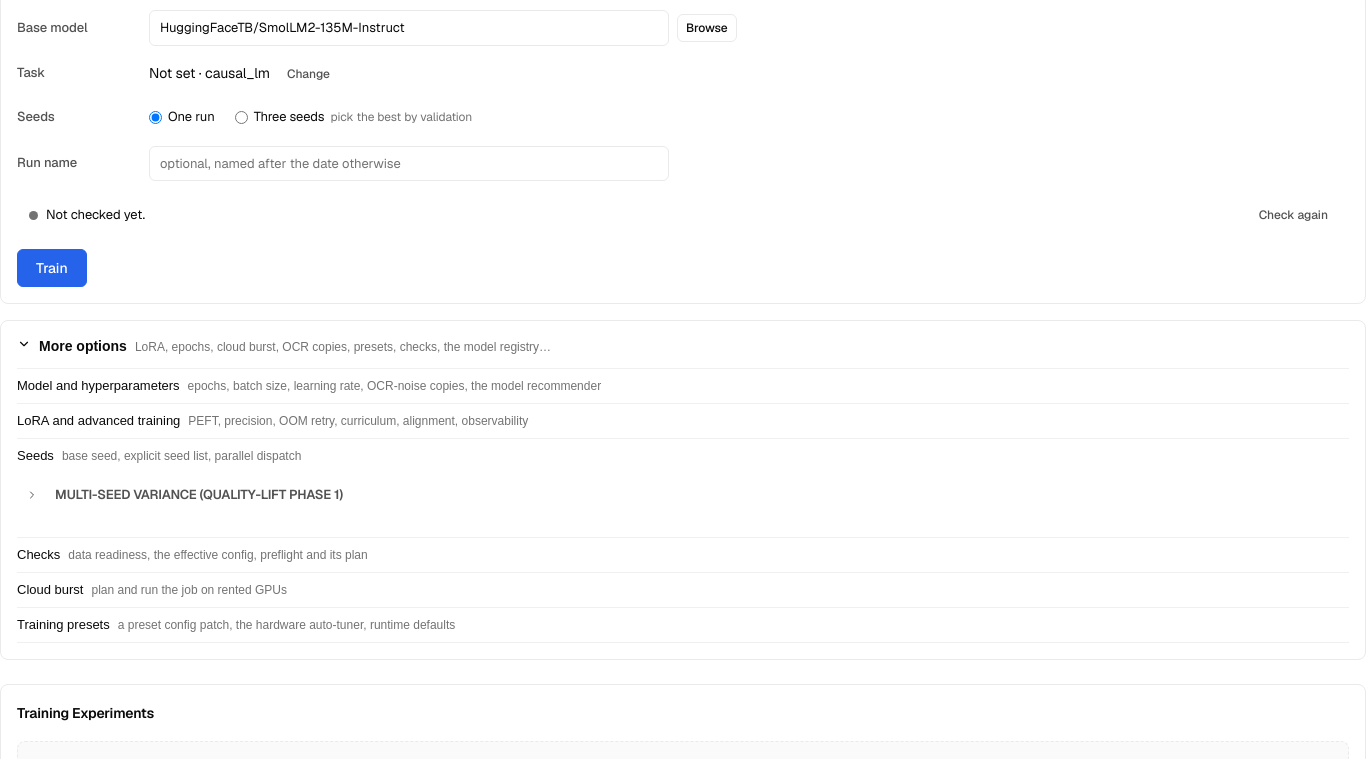
Scenario: TrainingPanel — multi-seed variance section (phase 7 slice 3) › toggle expands the body and reveals all four fields
Click the button with test id "training-multi-seed-toggle" at (32, 495), box [17,481,47,509]
(page scrolled)
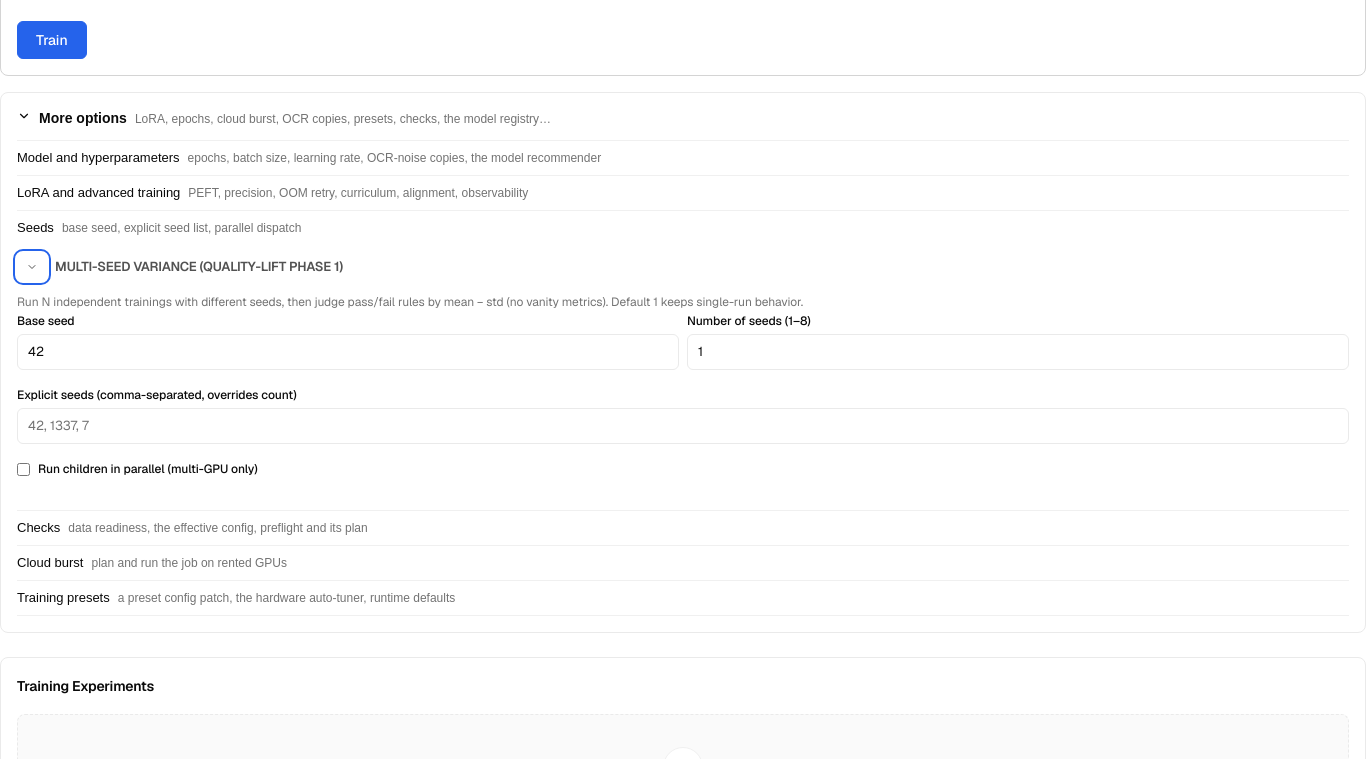
Expected: the element with test id "training-multi-seed-body" is shown, [17,293,1349,478]
Expected: the number field with test id "training-multi-seed-base" is shown, [17,334,679,370]
Expected: the number field with test id "training-multi-seed-count" is shown, [687,334,1349,370]
